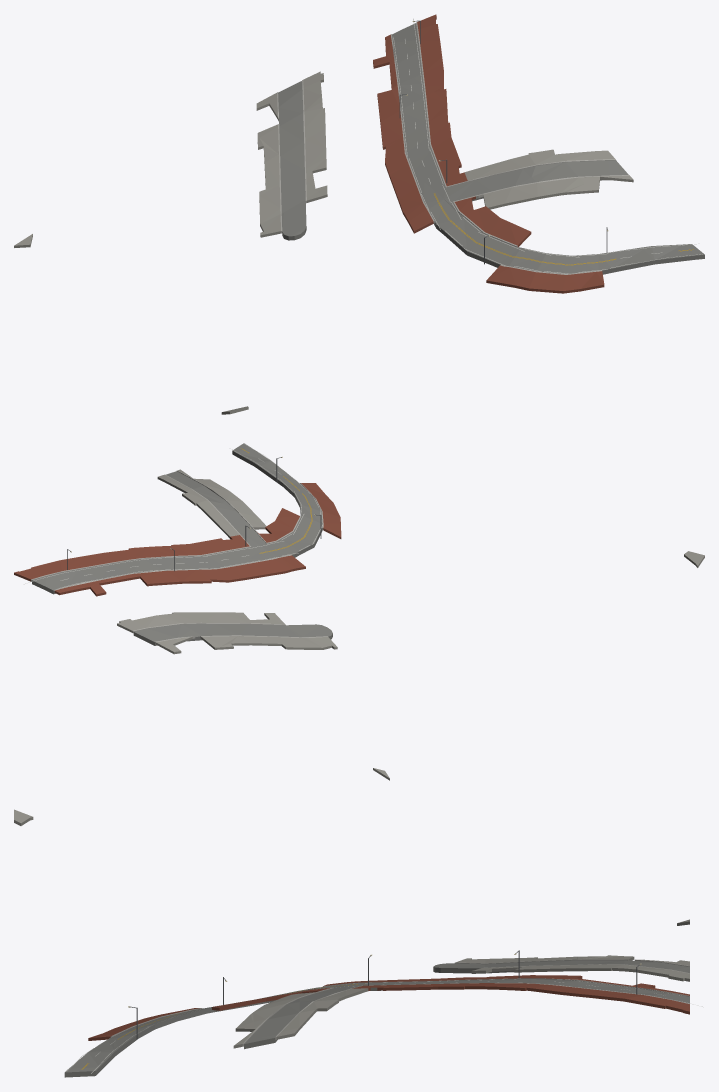
3 views of the same model, one above another, from view 1: azimuth 30°, elevation 25°; view 2: azimuth 150°, elevation 25°; view 3: azimuth 270°, elevation 25° (orthographic). The views are drawn at different scales.
Size of the model in its own units: 148 by 42.35 by 149.
